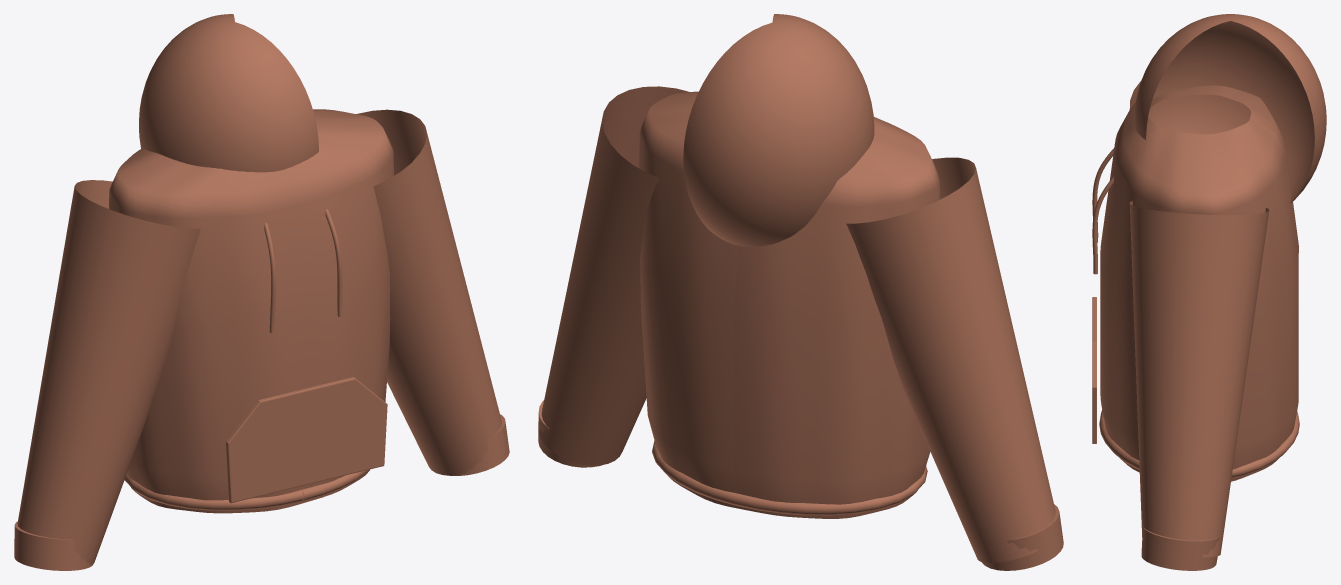
File: hoodie-sable-femme.glb
The picture shows the model from 3 angles, left to right: view 1: azimuth 30°, elevation 25°; view 2: azimuth 150°, elevation 25°; view 3: azimuth 270°, elevation 25°; orthographic projection. The views are drawn at different scales.
Parts seen in each view (by area): view 1: edit-04, long-sleeve (×2); view 2: edit-04, long-sleeve (×2); view 3: edit-04, long-sleeve.
Part boxes in pixels (x1=…): edit-04: x1=14, y1=14, x2=509, y2=570; long-sleeve (×2): x1=17, y1=109, x2=501, y2=564; edit-04: x1=538, y1=14, x2=1063, y2=570; long-sleeve (×2): x1=538, y1=86, x2=1055, y2=563; edit-04: x1=1092, y1=14, x2=1326, y2=570; long-sleeve: x1=1129, y1=201, x2=1269, y2=557.
Size of the model in its own units: 0.7702 by 0.7203 by 0.341.
